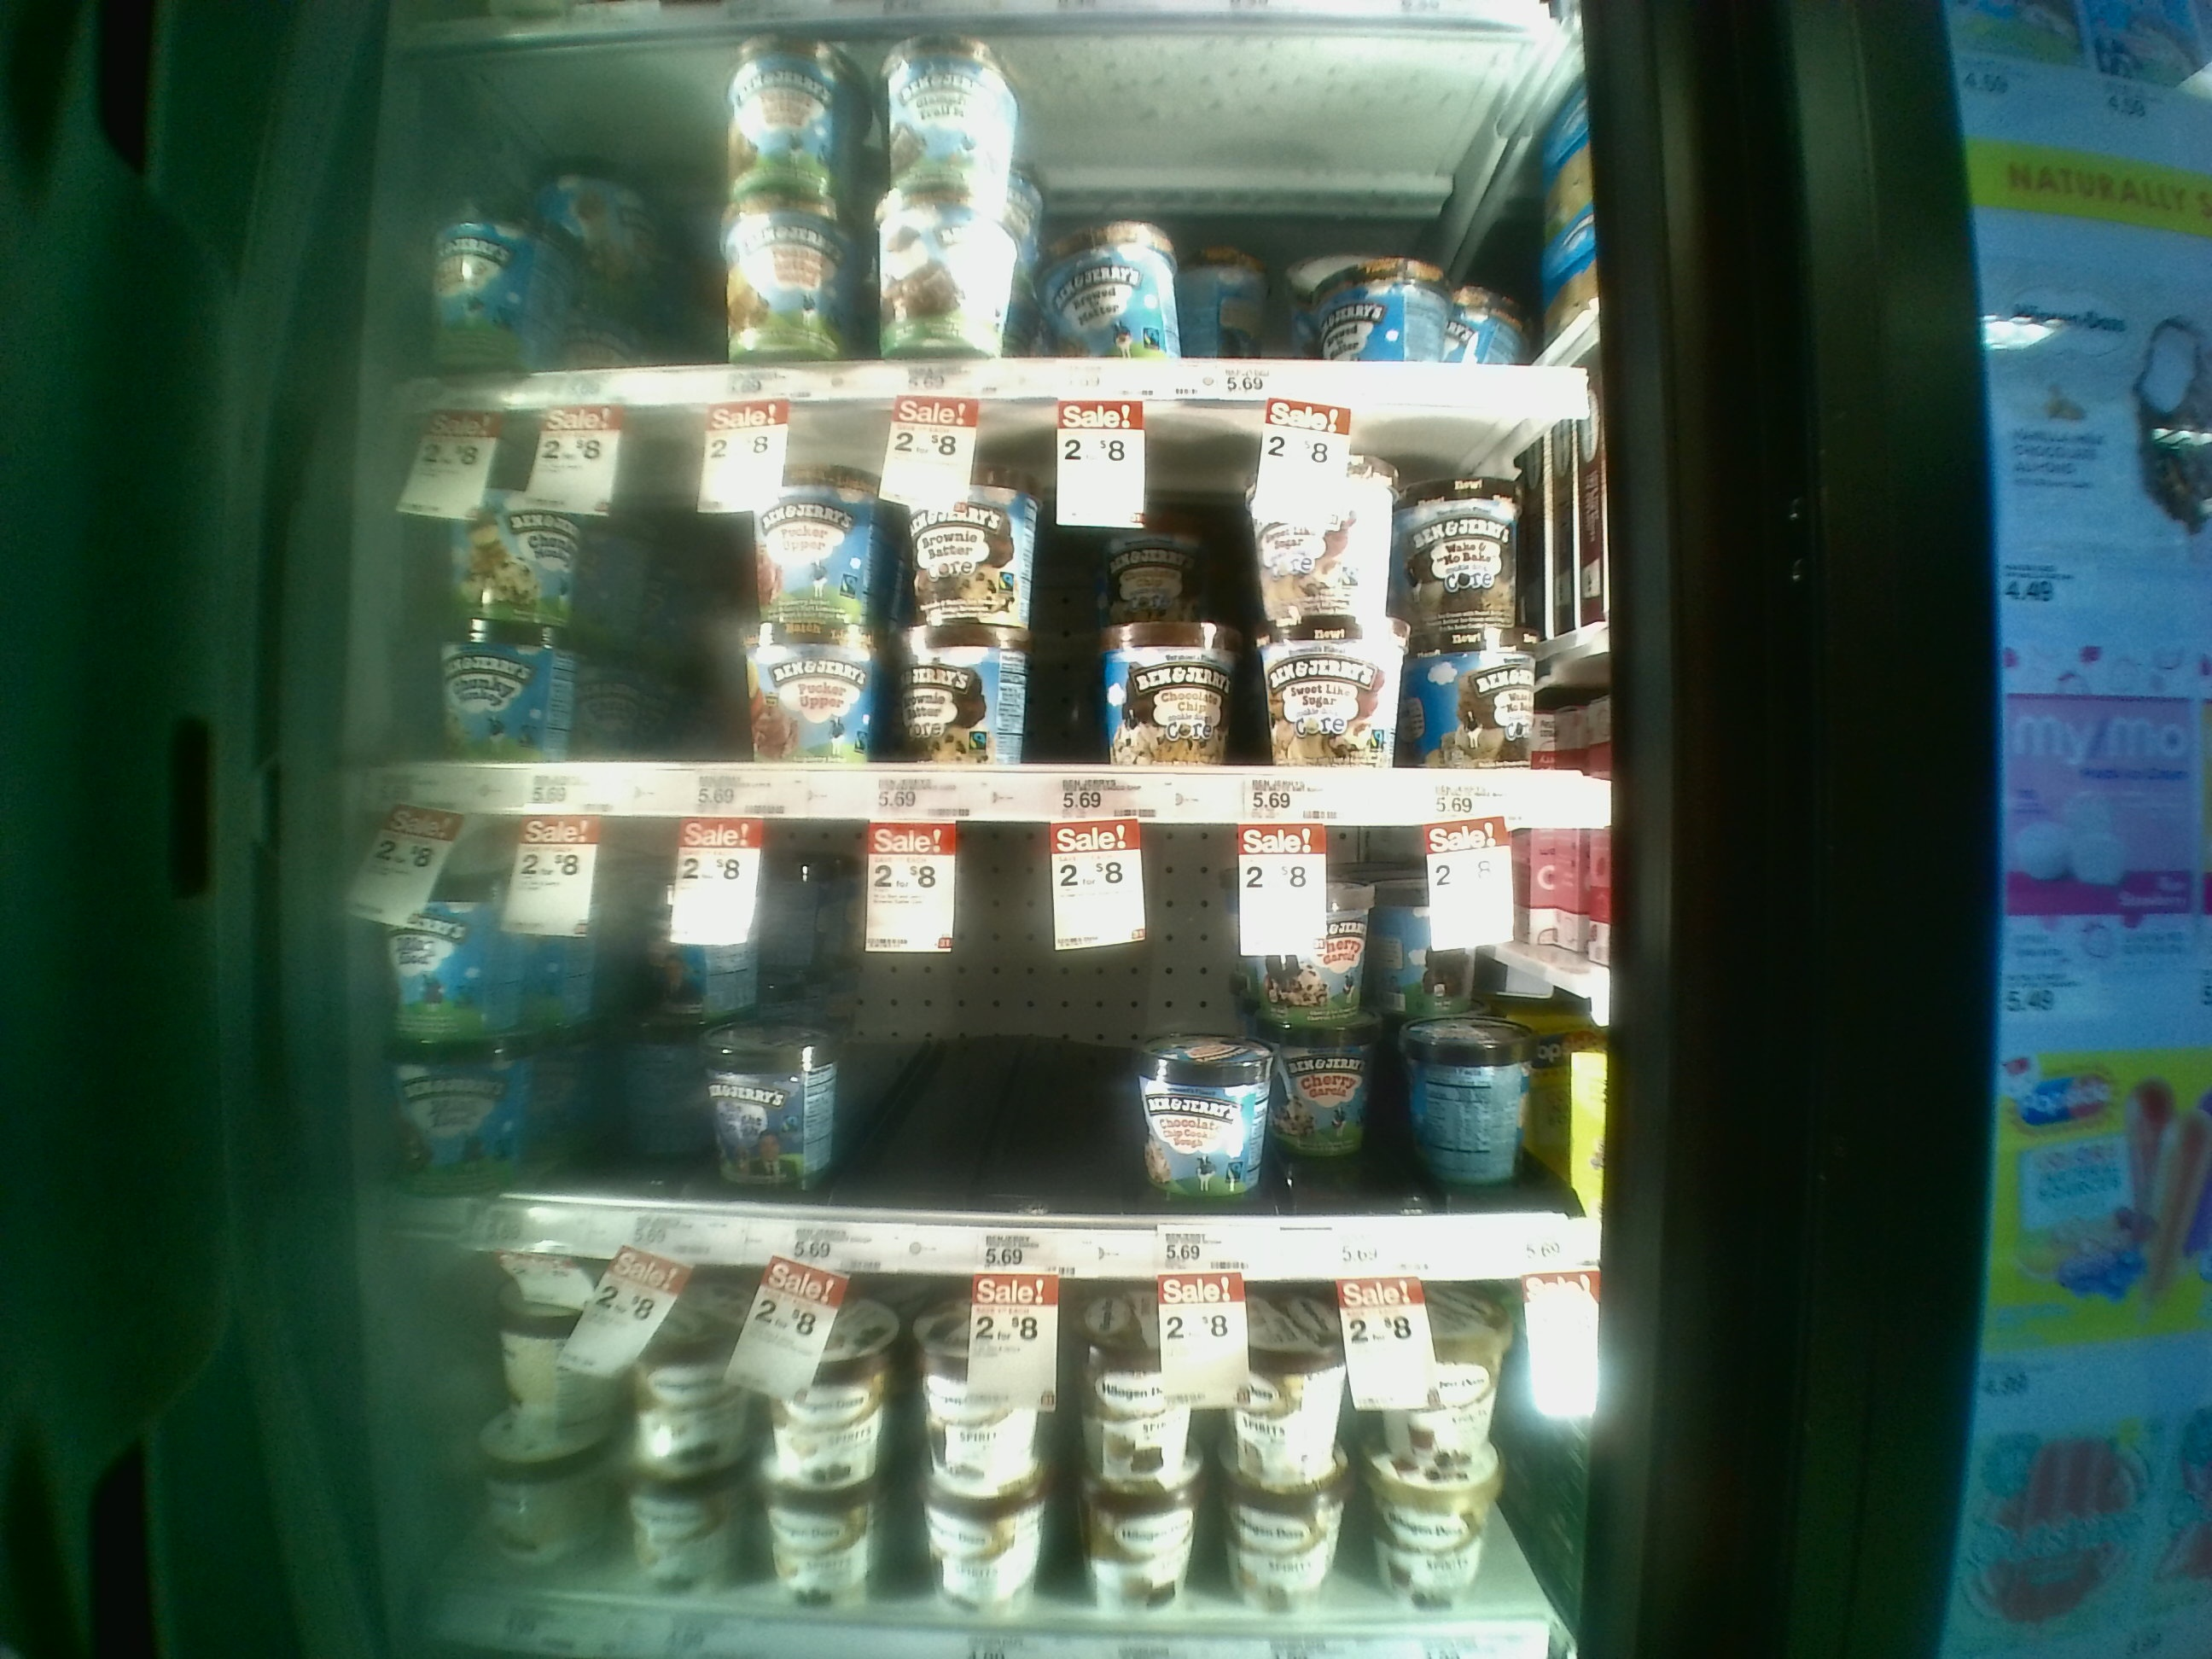ice-cream-shelf: (376, 817, 1606, 1270), (371, 408, 1604, 809), (369, 19, 1595, 404)
